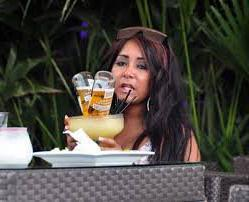Drunk: (112, 41, 149, 101)
